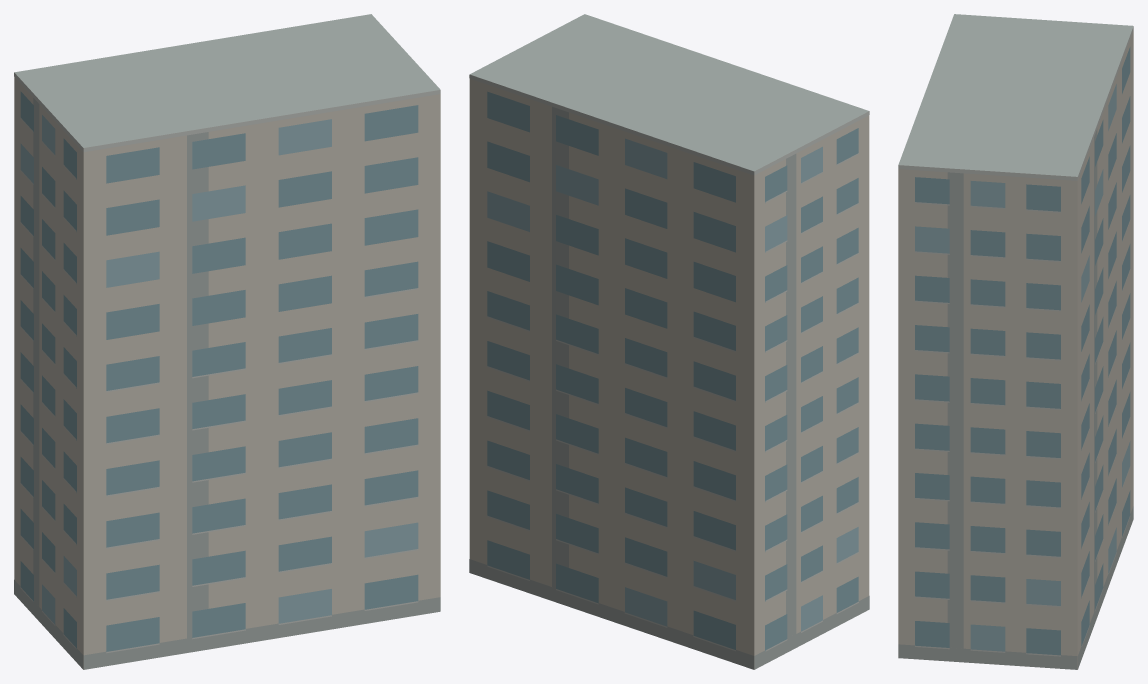
Rendered from residential-9f8a75be-da95-4f85-8854-90e6bc75b013.glb.
3 views of the same model, side by side, from view 1: azimuth 30°, elevation 25°; view 2: azimuth 150°, elevation 25°; view 3: azimuth 270°, elevation 25° (orthographic). The views are drawn at different scales.
Visible parts, largest first — view 1: residential-9f8a75be-da95-4f85-8854-90e6bc75b013.tmp; view 2: residential-9f8a75be-da95-4f85-8854-90e6bc75b013.tmp; view 3: residential-9f8a75be-da95-4f85-8854-90e6bc75b013.tmp.
Boxes of the visible parts, <box> form: residential-9f8a75be-da95-4f85-8854-90e6bc75b013.tmp: <box>14,14,440,669</box>; residential-9f8a75be-da95-4f85-8854-90e6bc75b013.tmp: <box>469,14,869,669</box>; residential-9f8a75be-da95-4f85-8854-90e6bc75b013.tmp: <box>898,14,1133,669</box>.
Size of the model in its own units: 21.27 by 30 by 12.99.
